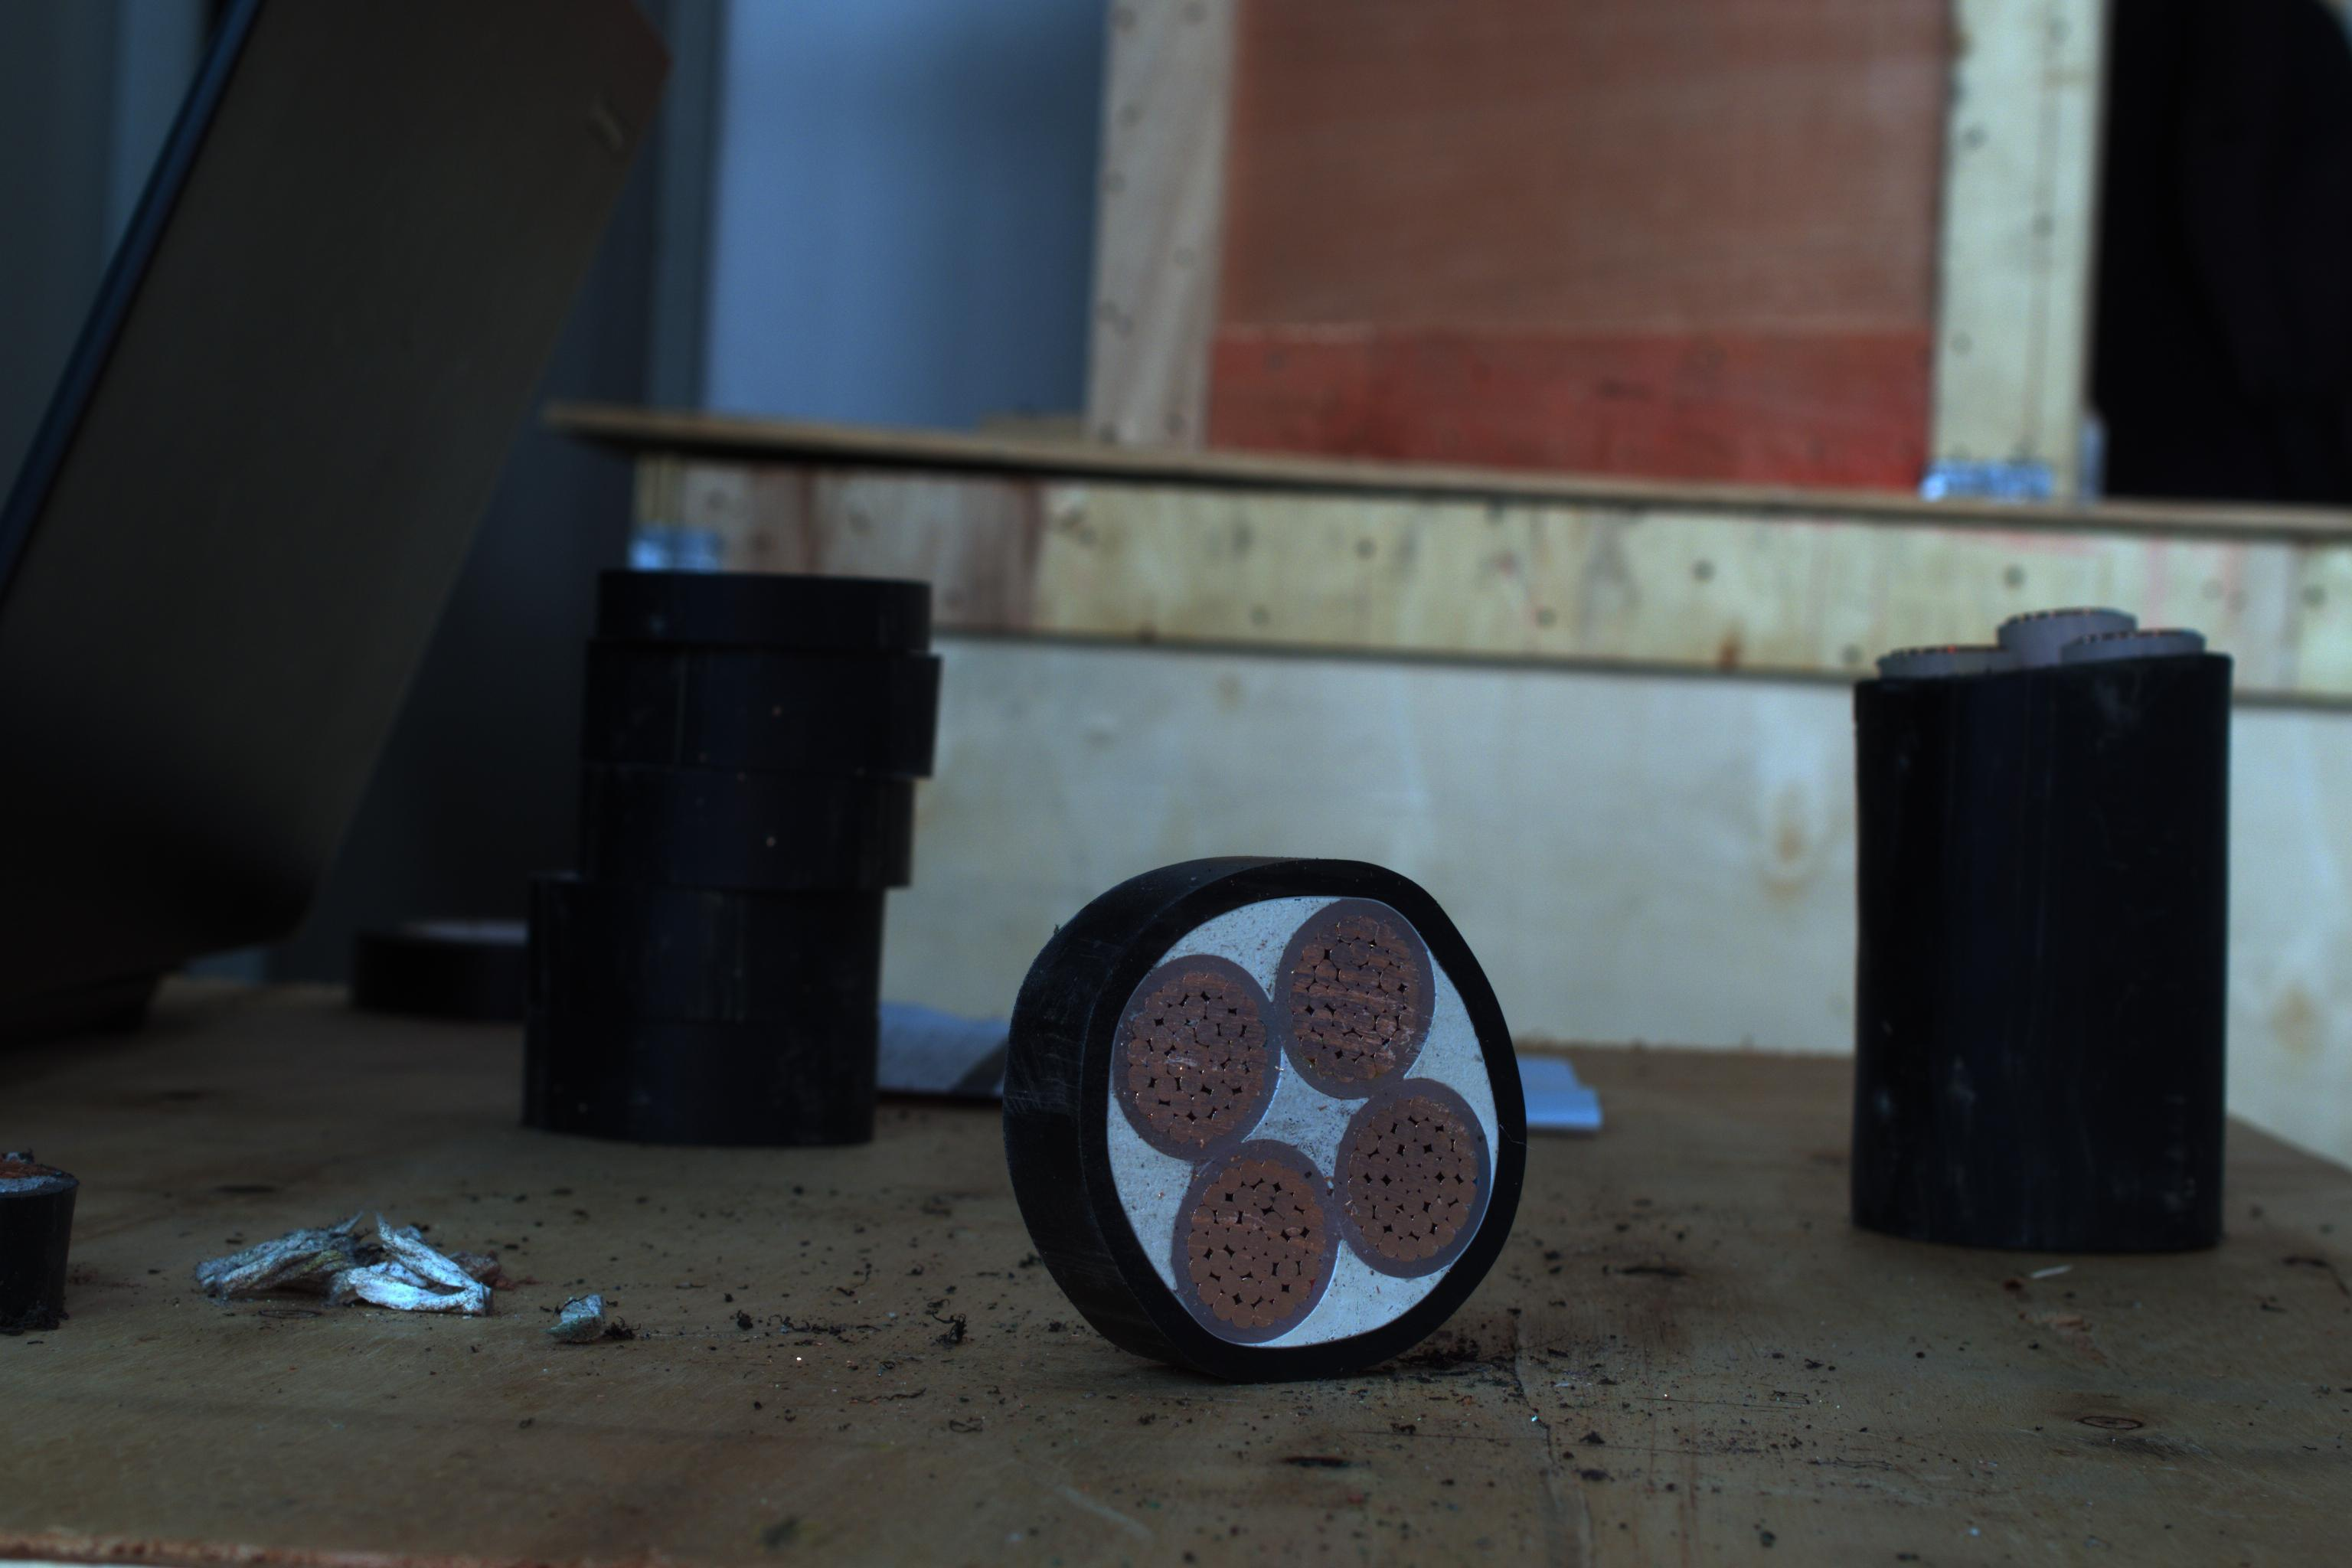YJV_0.6_1kV_4x240: (1069, 861, 1533, 1384)
